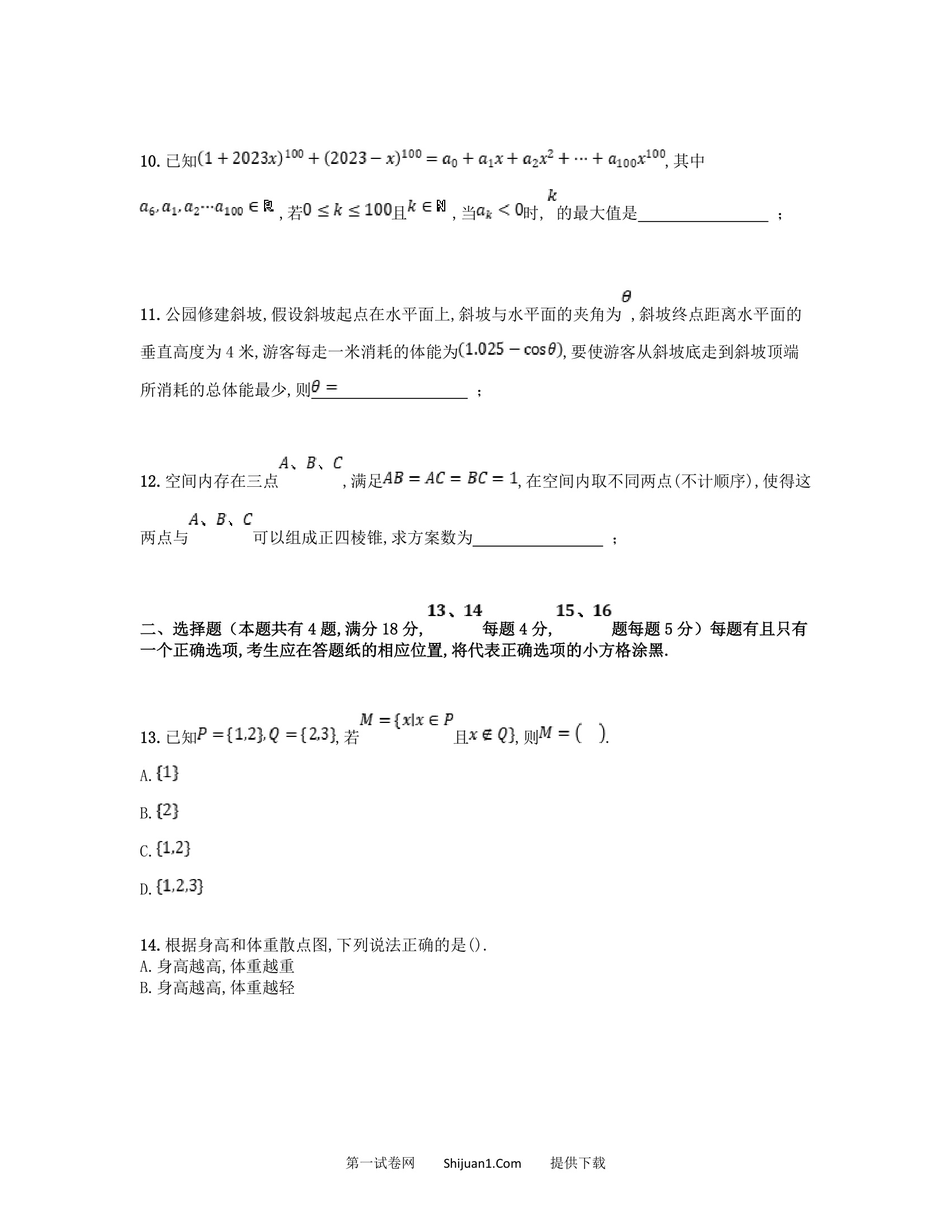question: (133, 690, 643, 917), (129, 279, 813, 411), (135, 447, 829, 567), (133, 135, 798, 234), (131, 928, 502, 1013)
